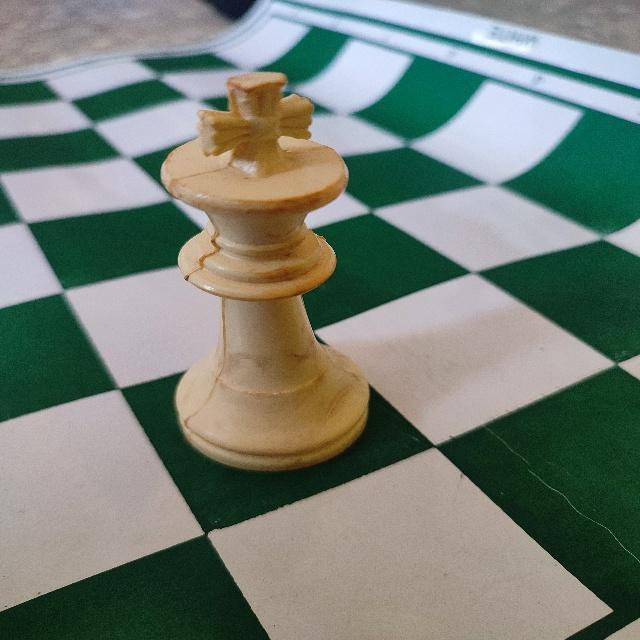King: (148, 65, 382, 477)
